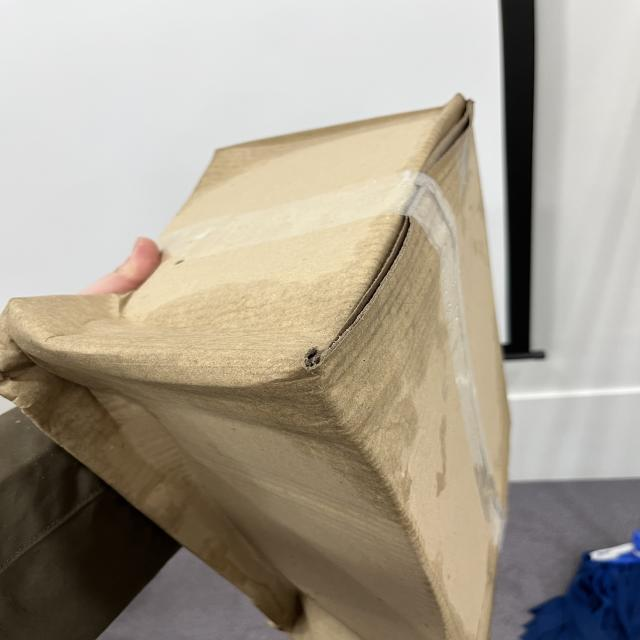wet: (44, 269, 476, 434)
